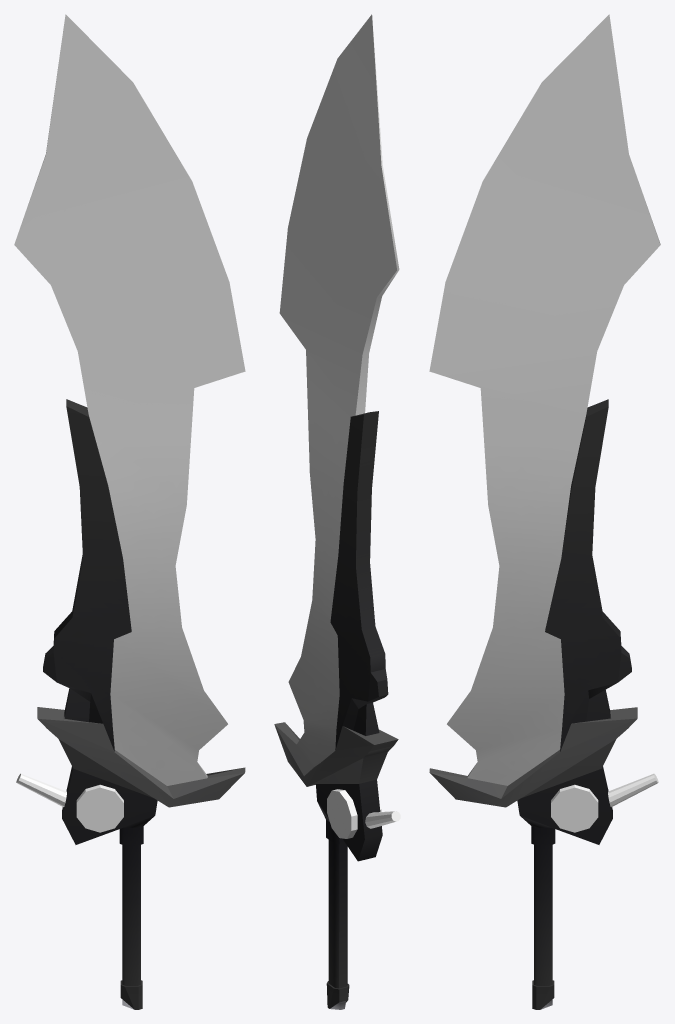
Rendered from Weapon_scimitar_sword.fbx.
3 renders of one model, left to right at view 1: azimuth 90°, elevation 25°; view 2: azimuth 210°, elevation 25°; view 3: azimuth 270°, elevation 25°, orthographic. The views are drawn at different scales.
Parts seen in each view (by area): view 1: W_SB_2; view 2: W_SB_2; view 3: W_SB_2.
Boxes of the visible parts, bbox=[...] form: W_SB_2: bbox=[14, 14, 245, 1009]; W_SB_2: bbox=[274, 14, 400, 1009]; W_SB_2: bbox=[429, 14, 660, 1009].
Bounding box in the file's own units: 3.62 × 117 × 24.76.
